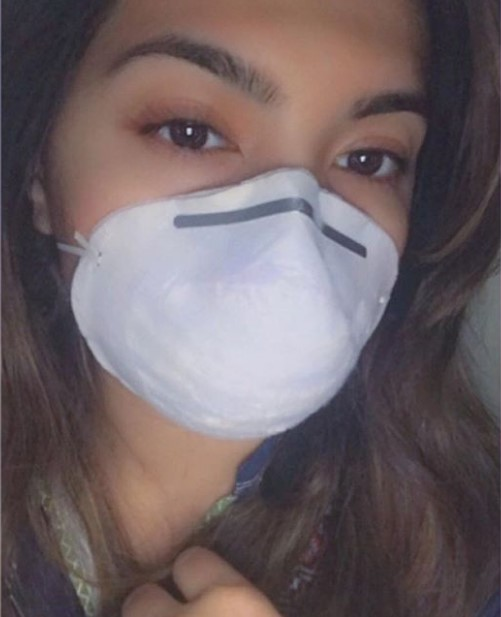face_with_mask: (16, 4, 462, 458)
